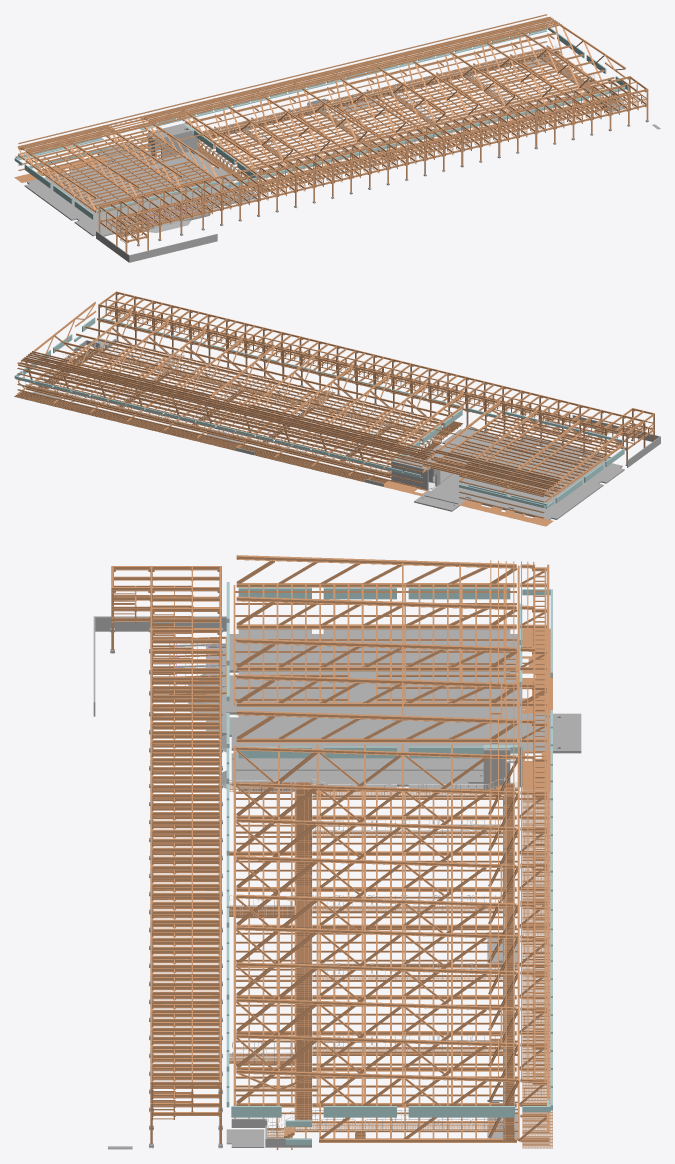
Rendered from detail-frame-4-3f.glb.
3 views of the same model, one above another, from view 1: azimuth 30°, elevation 25°; view 2: azimuth 150°, elevation 25°; view 3: azimuth 270°, elevation 25° (orthographic). The views are drawn at different scales.
Bounding box in the file's own units: 104 × 7.31 × 41.26.
